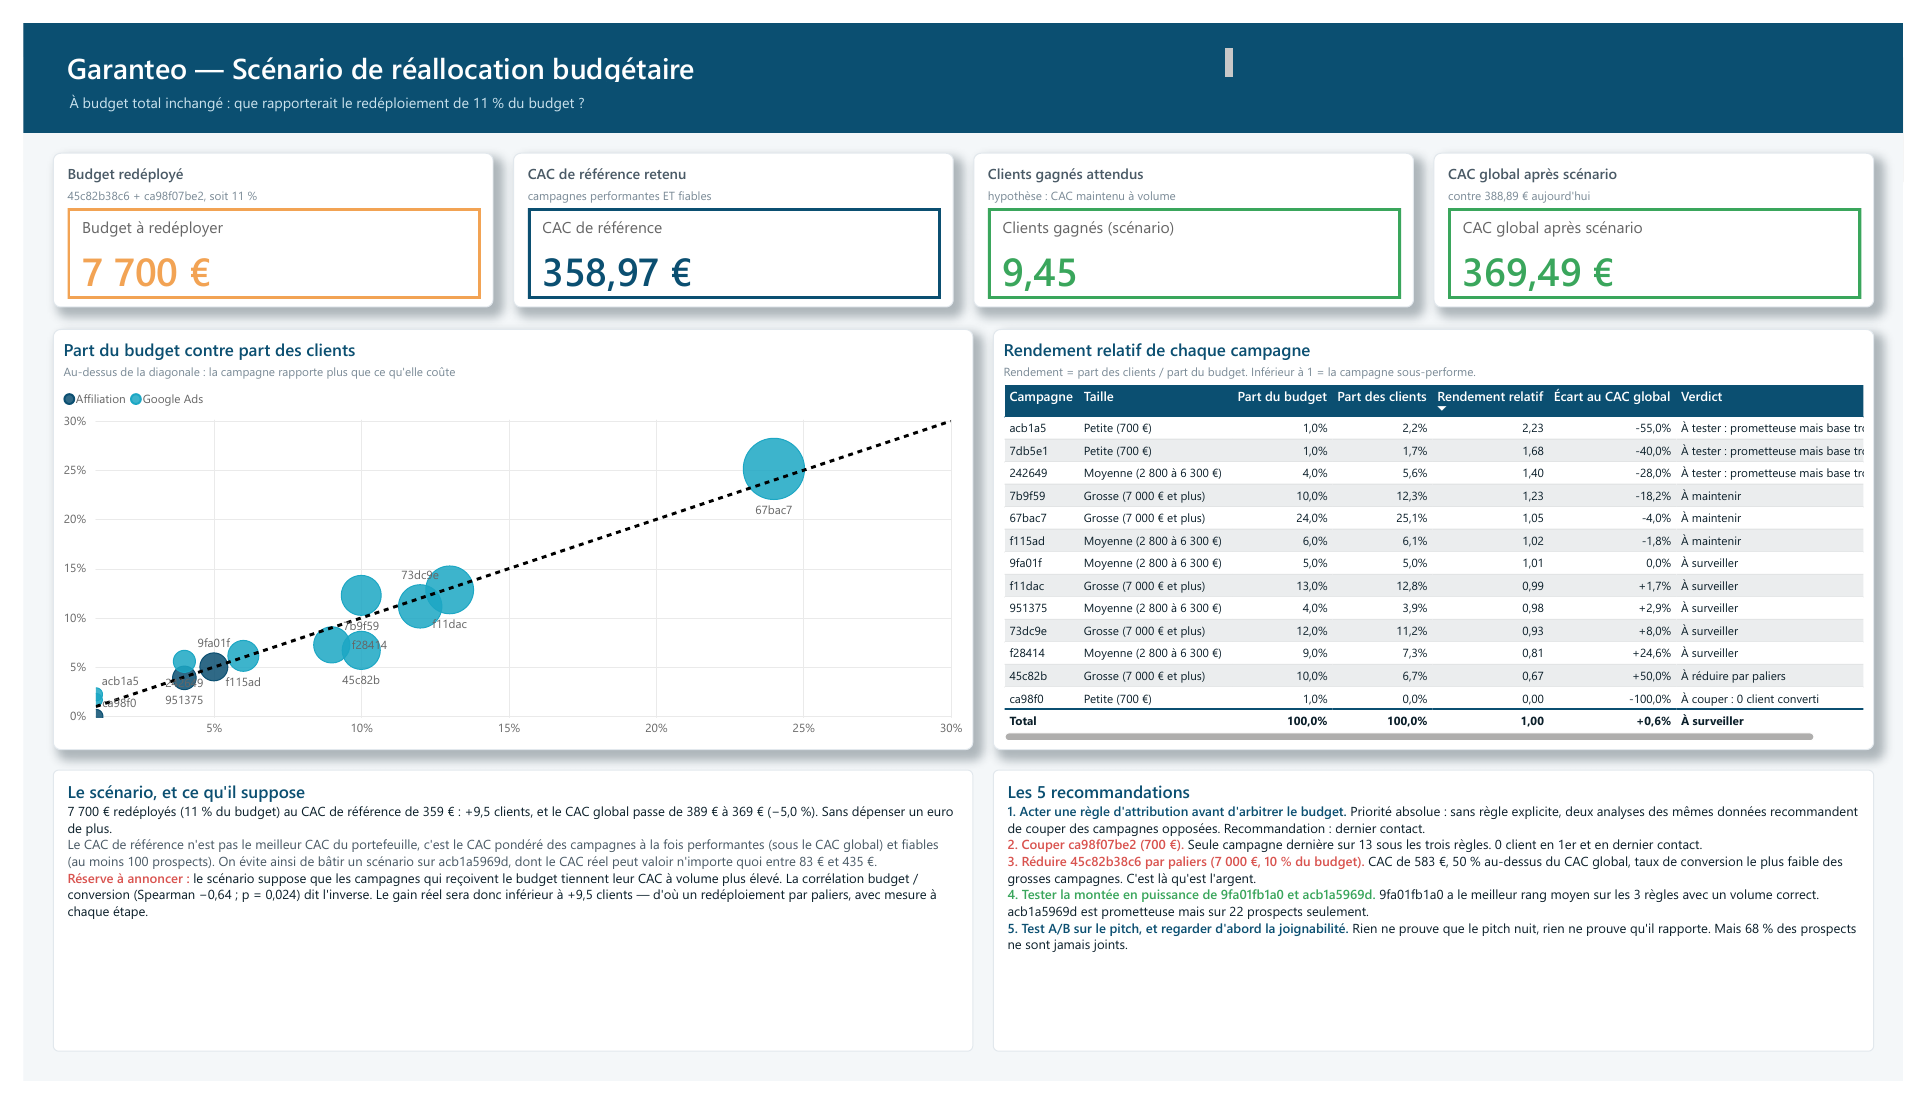

Layout of this report page (visuals, bound fields, positions):
{"tool":"powerbi","page":{"name":"5 · Scénario budgétaire","canvas":[1920,1080],"ordinal":4},"visuals":[{"type":"shape","box":[0,0,1920,112],"z":0},{"type":"cardVisual","title":"Budget redéployé","fields":{"Data":["_Mesures.Budget à redéployer"]},"box":[30,132,450,158],"z":1000},{"type":"cardVisual","title":"CAC de référence retenu","fields":{"Data":["_Mesures.CAC de référence"]},"box":[500,132,450,158],"z":2000},{"type":"cardVisual","title":"Clients gagnés attendus","fields":{"Data":["_Mesures.Clients gagnés (scénario)"]},"box":[970,132,450,158],"z":3000},{"type":"cardVisual","title":"CAC global après scénario","fields":{"Data":["_Mesures.CAC global après scénario"]},"box":[1440,132,450,158],"z":4000},{"type":"scatterChart","title":"Part du budget contre part des clients","fields":{"Category":["D_Campagne.Code court"],"Series":["D_Campagne.Canal"],"Size":["_Mesures.Prospects attribués"],"X":["_Mesures.Part du budget"],"Y":["_Mesures.Part des clients"]},"box":[30,312,940,430],"z":5000},{"type":"tableEx","title":"Rendement relatif de chaque campagne","fields":{"Values":["D_Campagne.Code court","D_Campagne.Taille","_Mesures.Part du budget","_Mesures.Part des clients","_Mesures.Rendement relatif","_Mesures.Écart au CAC global","_Mesures.Verdict combiné"]},"box":[990,312,900,430],"z":6000},{"type":"textbox","box":[30,762,940,288],"z":7000},{"type":"textbox","box":[990,762,900,288],"z":8000},{"type":"textbox","box":[40,20,1200,44],"z":9000},{"type":"textbox","box":[42,66,1400,30],"z":10000}]}

Visuals, with their boxes in screenshot pixels (x1, y1, x2, y2), scaled from the page's 1920x1080 canvas onto the 1927x1105 screenshot:
shape: [x1=0, y1=0, x2=1926, y2=115]
"Budget redéployé" cardVisual: [x1=30, y1=135, x2=482, y2=297]
"CAC de référence retenu" cardVisual: [x1=502, y1=135, x2=953, y2=297]
"Clients gagnés attendus" cardVisual: [x1=974, y1=135, x2=1425, y2=297]
"CAC global après scénario" cardVisual: [x1=1445, y1=135, x2=1897, y2=297]
"Part du budget contre part des clients" scatterChart: [x1=30, y1=319, x2=974, y2=759]
"Rendement relatif de chaque campagne" tableEx: [x1=994, y1=319, x2=1897, y2=759]
textbox: [x1=30, y1=780, x2=974, y2=1074]
textbox: [x1=994, y1=780, x2=1897, y2=1074]
textbox: [x1=40, y1=20, x2=1245, y2=65]
textbox: [x1=42, y1=68, x2=1447, y2=98]
